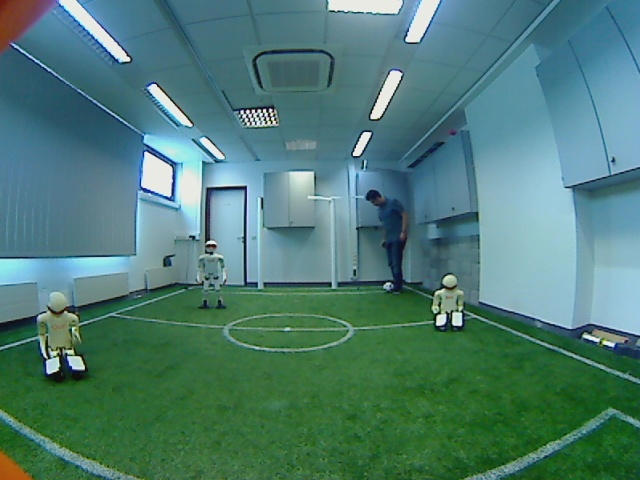ball: (377, 276, 399, 296)
robot: (32, 291, 88, 385), (423, 271, 471, 337), (195, 239, 230, 311)
